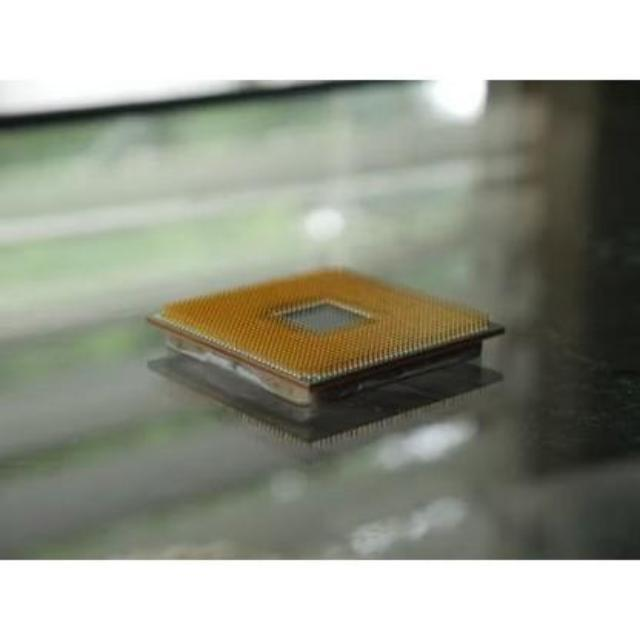CPU: (142, 267, 504, 404)
